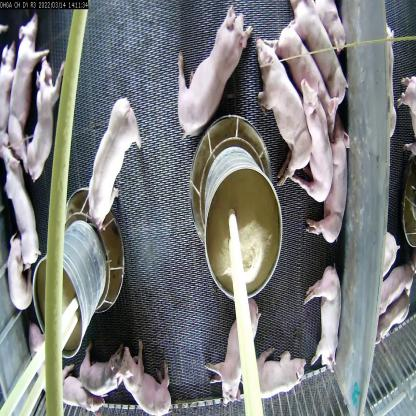Pig: (174, 3, 252, 138), (255, 43, 315, 181), (86, 93, 143, 225), (285, 24, 337, 134), (213, 293, 261, 404), (313, 112, 353, 244), (291, 0, 346, 96), (0, 140, 42, 260), (26, 49, 66, 167), (239, 343, 304, 410), (10, 18, 41, 147), (296, 79, 328, 196), (306, 268, 340, 369), (128, 349, 171, 415), (30, 325, 61, 401), (86, 348, 127, 403), (385, 258, 416, 316), (9, 242, 32, 311), (62, 385, 94, 415)
